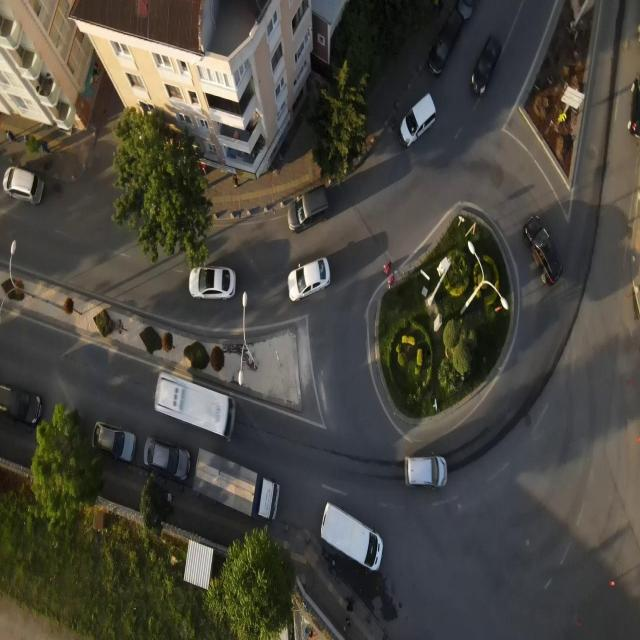p3rson: (387, 272, 395, 289), (384, 261, 391, 276), (234, 174, 239, 188)
